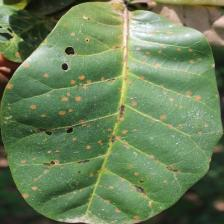red rust: (5, 4, 218, 223)
